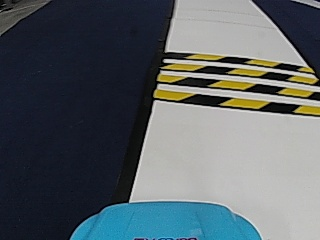bump: (172, 53, 303, 116)
